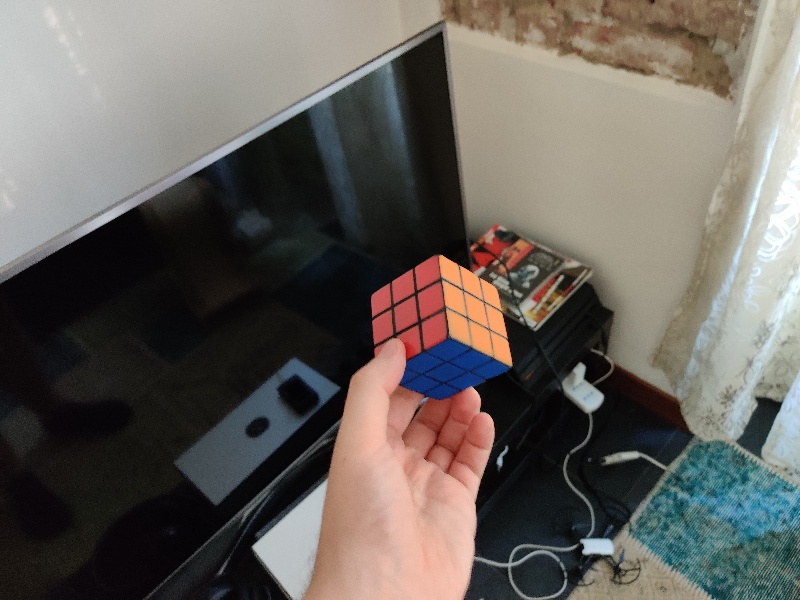rubik: (371, 255, 512, 402)
